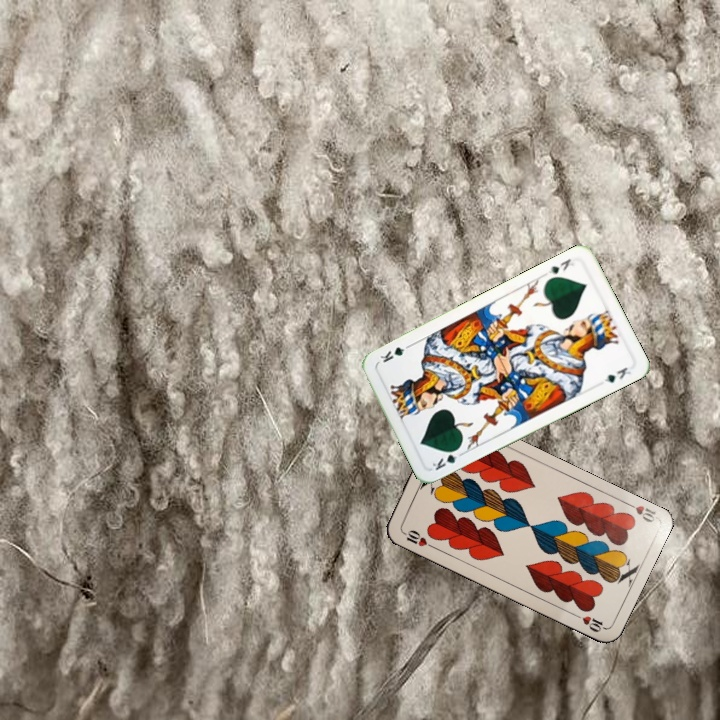GK: (428, 444, 466, 473), (544, 254, 577, 277)
H10: (621, 498, 659, 525), (398, 526, 436, 551)
